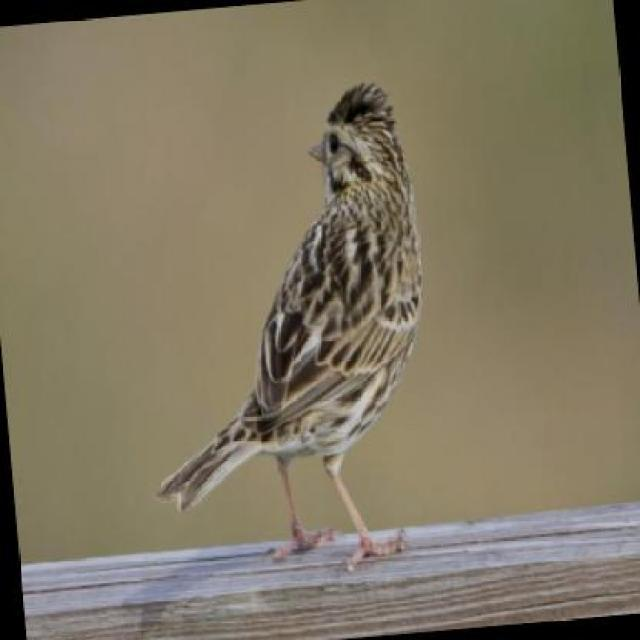Bird: (154, 43, 458, 570)
